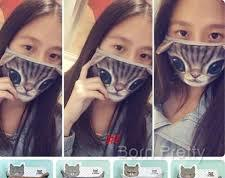OK: (1, 33, 66, 101), (166, 19, 225, 86), (99, 35, 153, 99)
